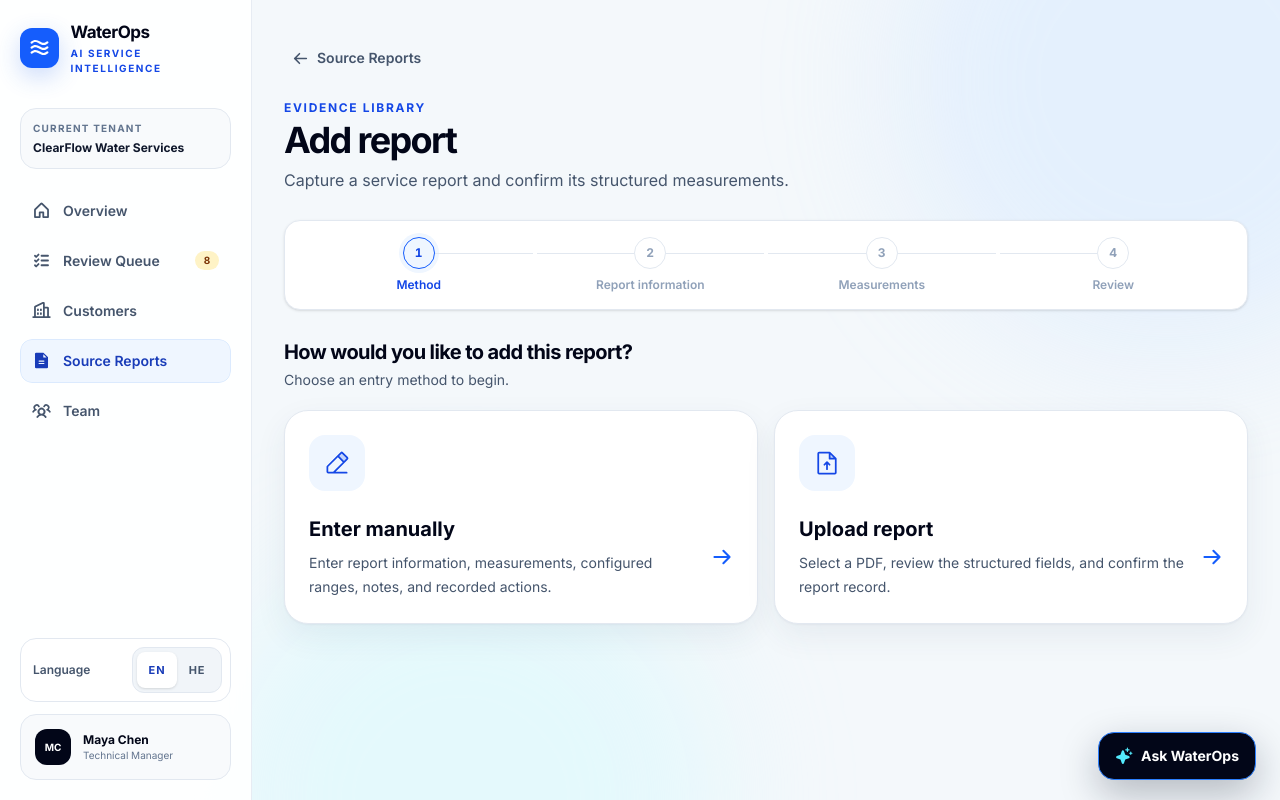
Test: WaterOps production workspace › validates report context and moves focus to the error summary
Click the button "Enter manually" at (337, 463), box [284,410,758,624]
(page scrolled)
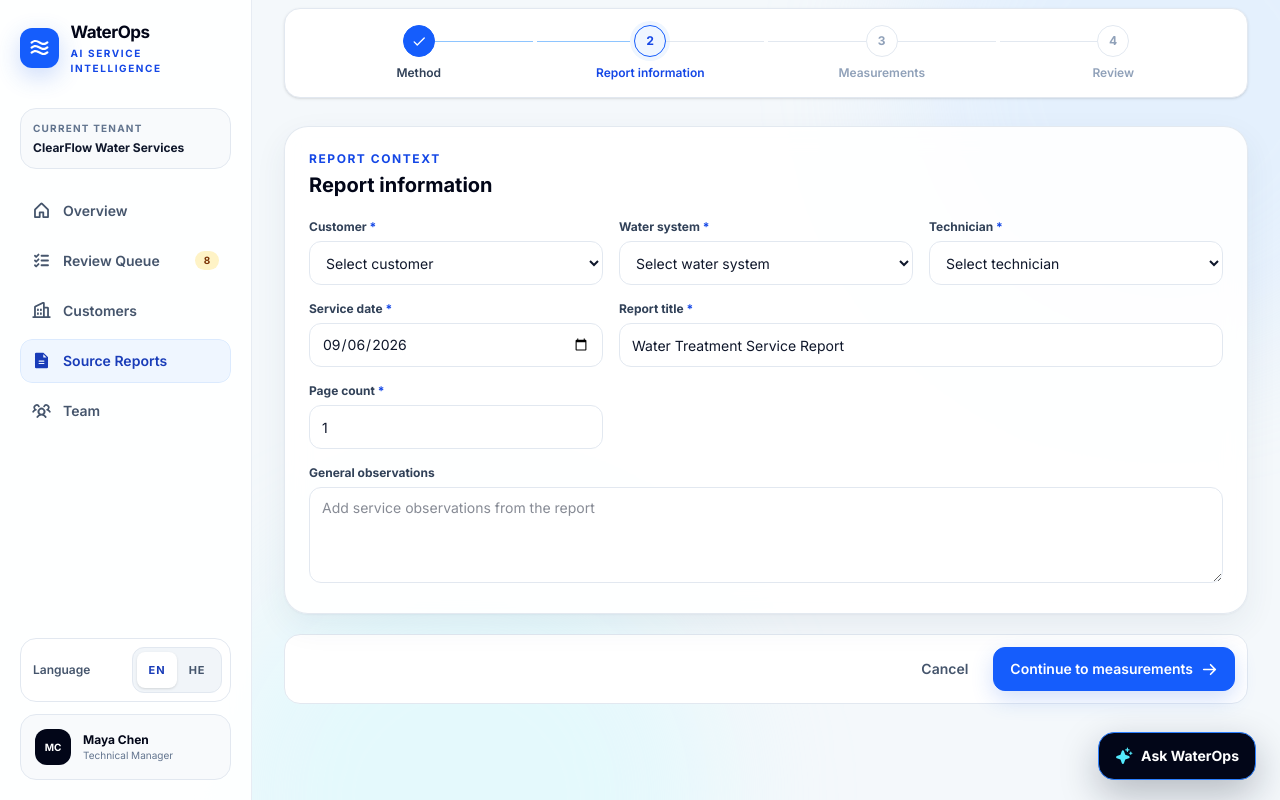
Click the button "Continue to measurements" at (1114, 669), box [993,647,1235,691]
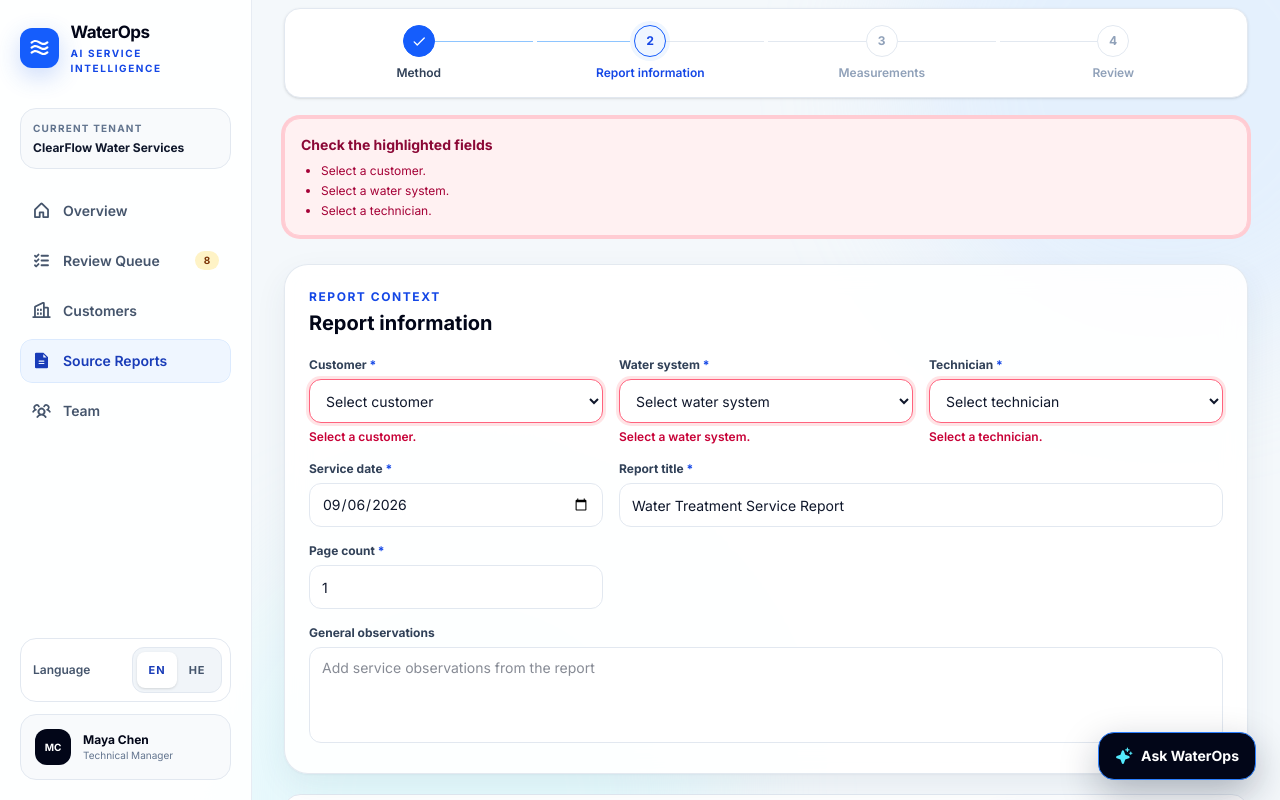
Result: the message shows "Select a customer." at [321,163,426,178]
